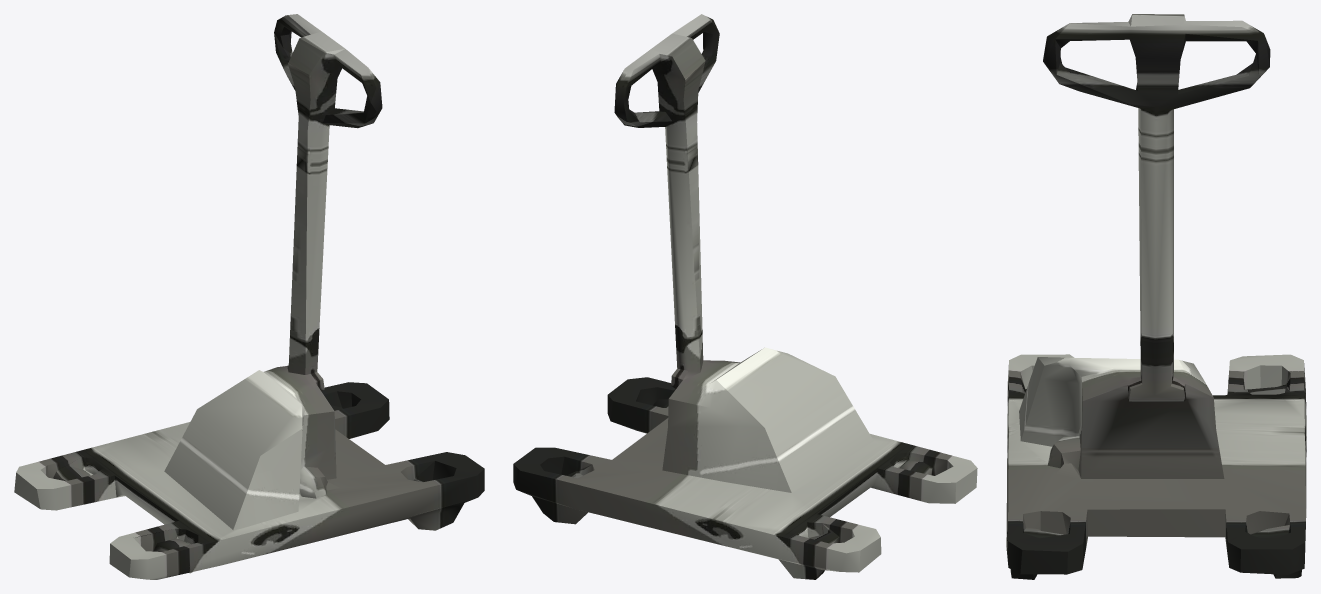
3 renders of one model, left to right at view 1: azimuth 30°, elevation 25°; view 2: azimuth 150°, elevation 25°; view 3: azimuth 270°, elevation 25°, orthographic. The views are drawn at different scales.
Parts seen in each view (by area): view 1: Decor_pallet_jack_b; view 2: Decor_pallet_jack_b; view 3: Decor_pallet_jack_b.
Part boxes in pixels (x1,y1,x2,y2): Decor_pallet_jack_b: (14,14,484,579); Decor_pallet_jack_b: (513,14,977,579); Decor_pallet_jack_b: (1006,14,1306,579).
Size of the model in its own units: 0.9779 by 1.19 by 0.6187.
Materials: 1 (1 with a texture image).
